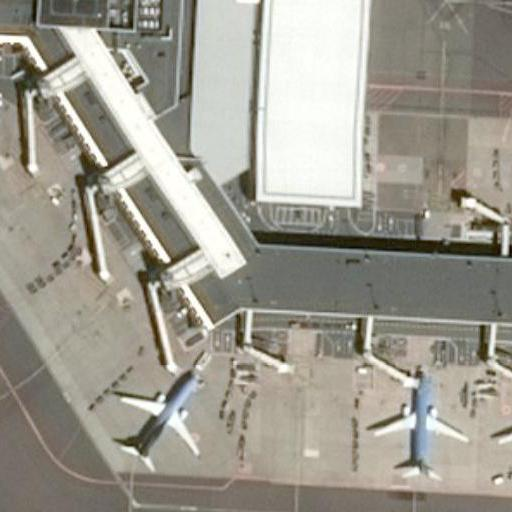Aircraft: (106, 362, 212, 473), (368, 375, 472, 476), (488, 386, 512, 491)
